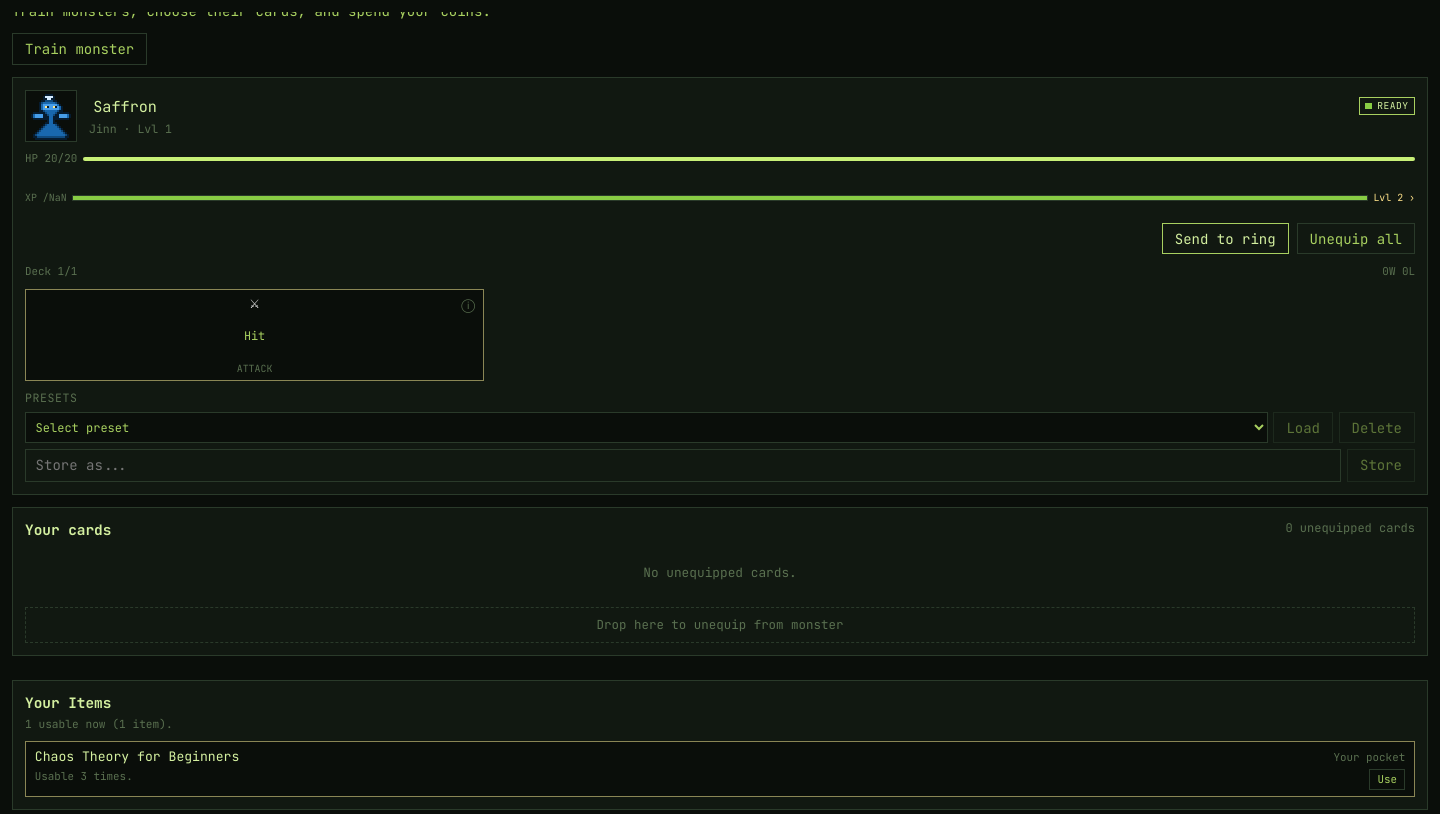
it: WorkshopPanel item use narration › falls back to the generic message when the engine narrated nothing on this channel
(page scrolled)
What coordinates should you click on to do the following:
click the button with aria-label "Use Chaos Theory for Beginners on Saffron"
I would click on:
 (1387, 779)
Its box is [1369,769,1405,790].
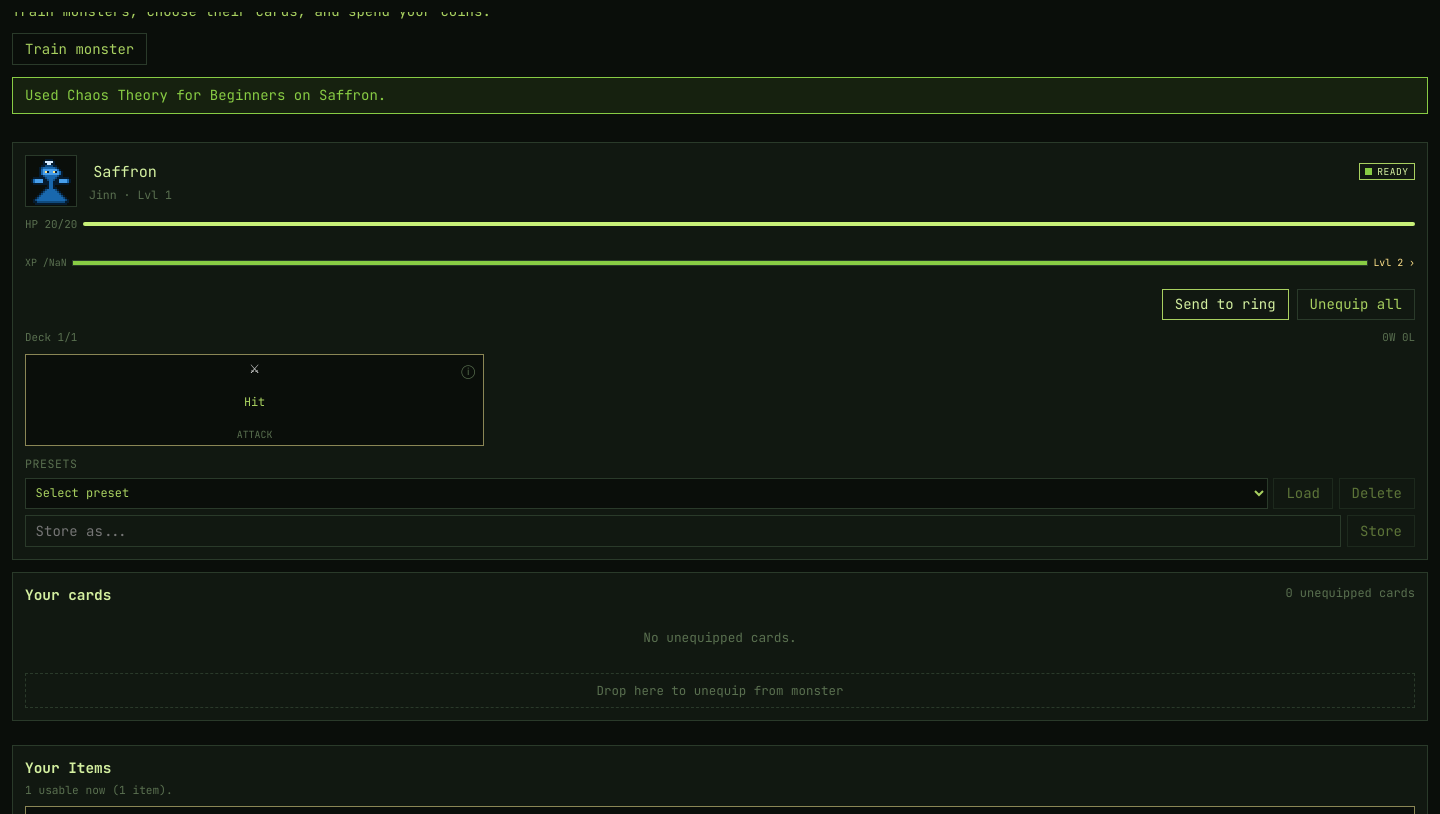
Now the message reads "Used Chaos Theory for Beginners on Saffron.", box [25,86,386,104]
